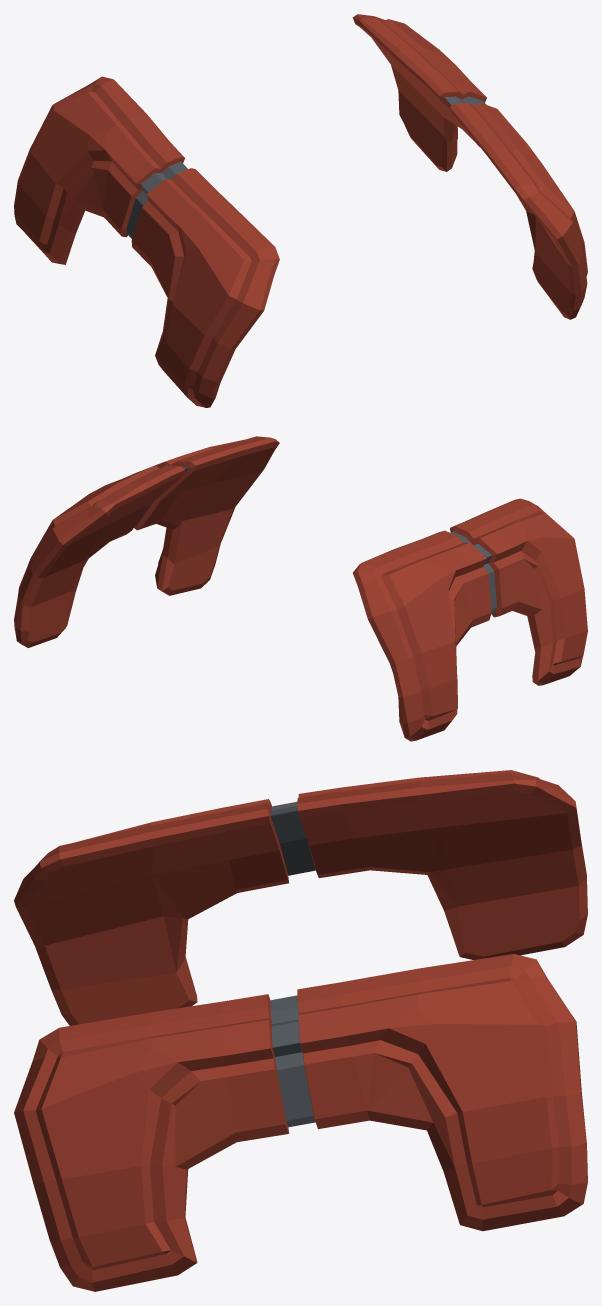
The model's file is Fighter_06_Side_Frame_Red.fbx.
The picture shows the model from 3 angles, top to bottom: view 1: azimuth 30°, elevation 25°; view 2: azimuth 150°, elevation 25°; view 3: azimuth 270°, elevation 25°; orthographic projection. The views are drawn at different scales.
Parts seen in each view (by area): view 1: Fighter_06_Side_Frame_Red; view 2: Fighter_06_Side_Frame_Red; view 3: Fighter_06_Side_Frame_Red.
Boxes of the visible parts, left/top/right/bottom form: Fighter_06_Side_Frame_Red: left=14, top=14, right=587, bottom=407; Fighter_06_Side_Frame_Red: left=14, top=436, right=587, bottom=741; Fighter_06_Side_Frame_Red: left=14, top=770, right=587, bottom=1291.
Size of the model in its own units: 310 by 146 by 256.
Materials: 1 (1 with a texture image).
